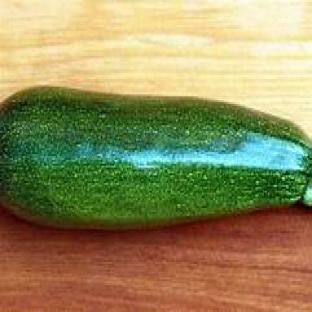Zucchini: (0, 87, 311, 229)
